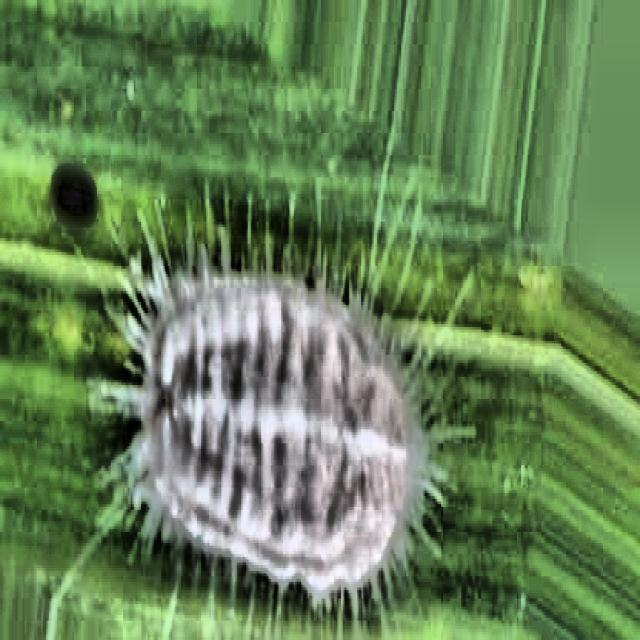Mealy-bug: (79, 171, 486, 635)
